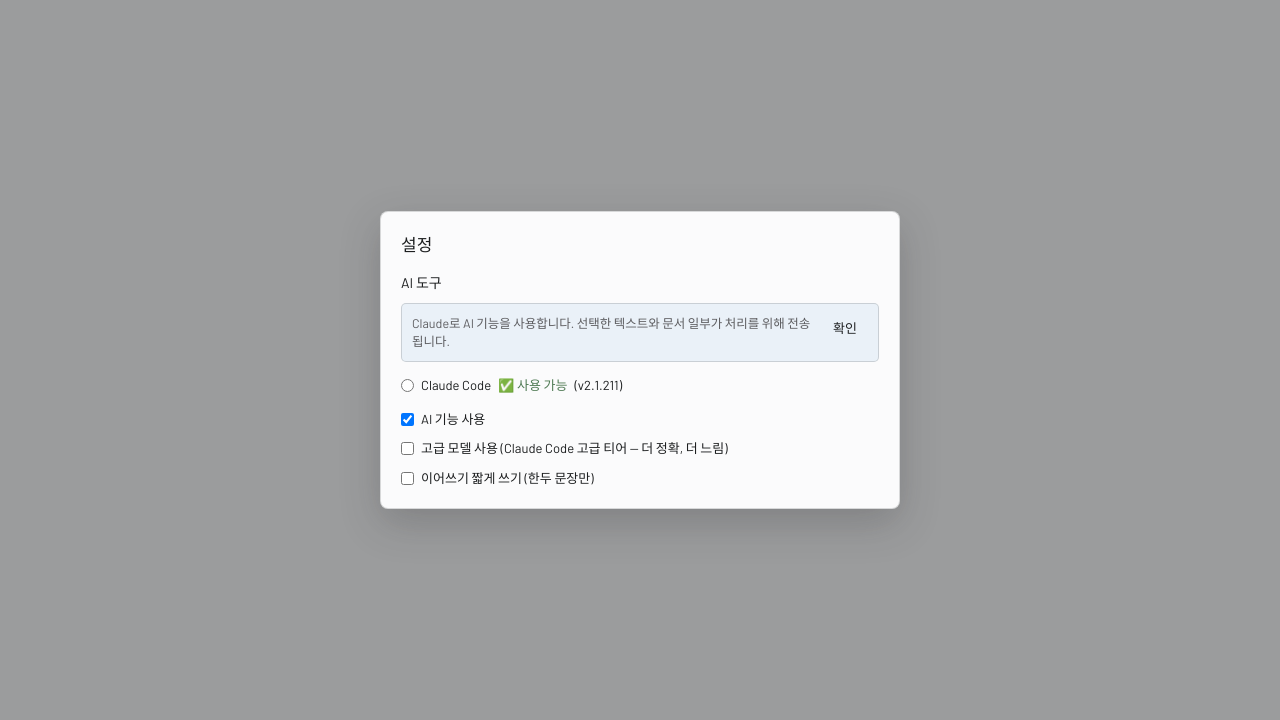
Test: SettingsModal: notice banner + advanced toggle + policy lock (T-011) › dismisses the notice on 확인 and persists the acknowledgement
The width and height of the screenshot is (1280, 720).
Expected: the element with test id "ai-notice-banner" is shown, [401,302,879,362]
Click the button "확인" at (845, 328), box [822,314,868,344]
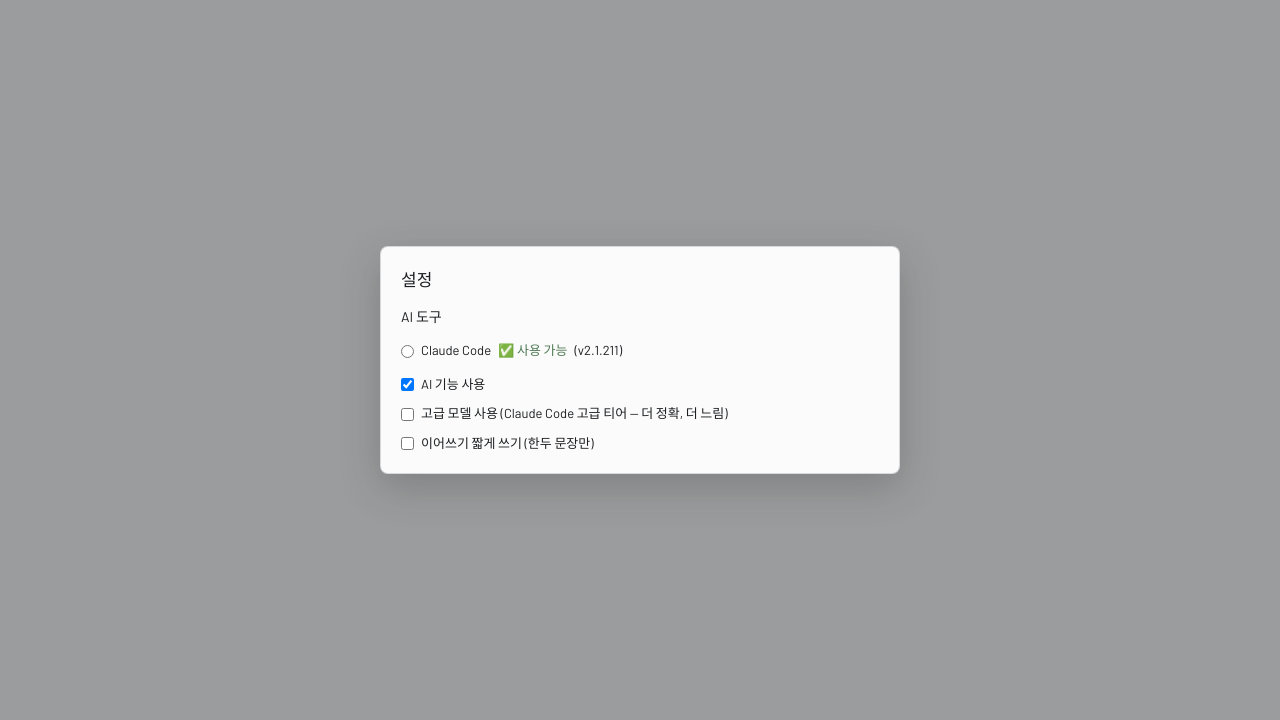
Expected: the element with test id "ai-notice-banner" is gone
